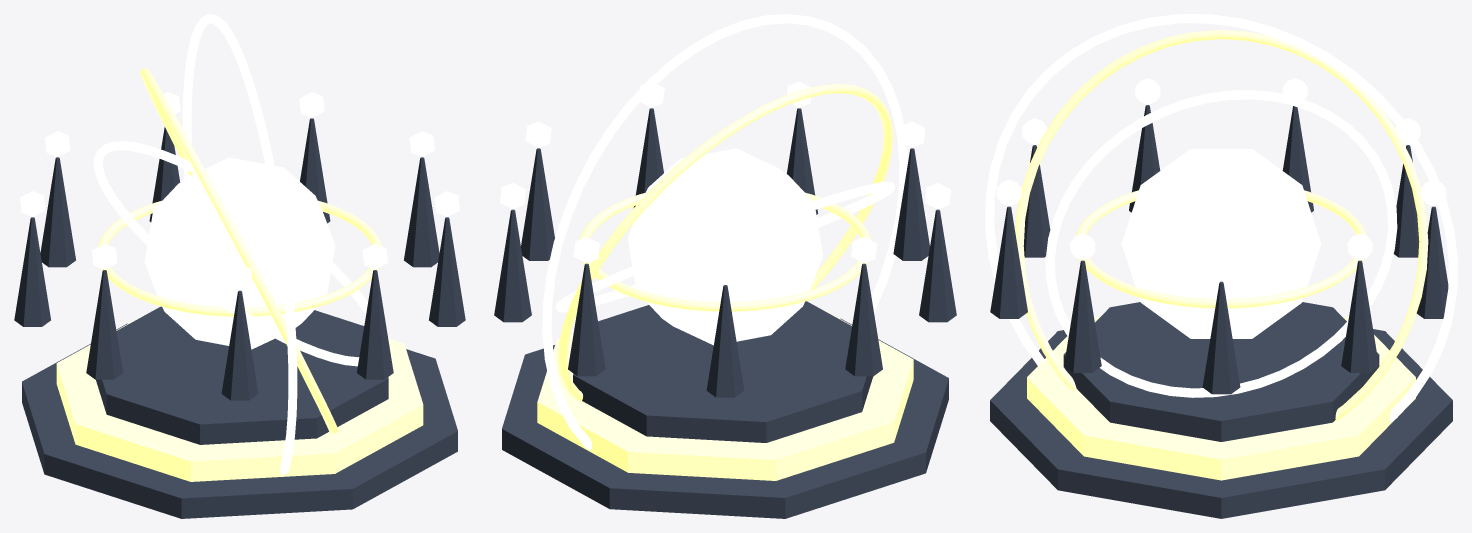
The model's file is gpu-blender-v28.glb.
3 views of the same model, side by side, from view 1: azimuth 30°, elevation 25°; view 2: azimuth 150°, elevation 25°; view 3: azimuth 270°, elevation 25° (orthographic). The views are drawn at different scales.
Visible parts, largest first — view 1: Cylinder.002, Cylinder, SovereignCore_agent-mock-twin, Cylinder.001, Torus.003, Torus.001, Torus.002, Torus, Cone.006, Cone, Cone.003, Cone.005 (+13 smaller); view 2: Cylinder.002, SovereignCore_agent-mock-twin, Cylinder, Cylinder.001, Torus.003, Torus.002, Torus.001, Torus, Cone.002, Cone.004, Cone.001, Cone.005 (+12 smaller); view 3: SovereignCore_agent-mock-twin, Cylinder.002, Cylinder, Cylinder.001, Torus.003, Torus.002, Torus.001, Torus, Cone, Cone.007, Cone.001, Cone.008 (+9 smaller).
Boxes of the visible parts, x1=… form: Cylinder.002: x1=96, y1=306, x2=388, y2=444; Cylinder: x1=22, y1=323, x2=457, y2=518; SovereignCore_agent-mock-twin: x1=144, y1=157, x2=335, y2=349; Cylinder.001: x1=56, y1=314, x2=423, y2=481; Torus.003: x1=182, y1=14, x2=297, y2=474; Torus.001: x1=93, y1=141, x2=367, y2=366; Torus.002: x1=140, y1=68, x2=338, y2=433; Torus: x1=98, y1=200, x2=381, y2=316; Cone.006: x1=221, y1=290, x2=258, y2=400; Cone: x1=404, y1=157, x2=439, y2=267; Cone.003: x1=40, y1=157, x2=75, y2=267; Cone.005: x1=86, y1=270, x2=122, y2=379; Cylinder.002: x1=573, y1=301, x2=873, y2=442; SovereignCore_agent-mock-twin: x1=627, y1=148, x2=823, y2=345; Cylinder: x1=502, y1=318, x2=948, y2=518; Cylinder.001: x1=537, y1=309, x2=913, y2=480; Torus.003: x1=542, y1=14, x2=908, y2=450; Torus.002: x1=558, y1=84, x2=892, y2=401; Torus.001: x1=556, y1=181, x2=894, y2=312; Torus: x1=580, y1=192, x2=870, y2=311; Cone.002: x1=568, y1=263, x2=605, y2=376; Cone.004: x1=845, y1=263, x2=882, y2=376; Cone.001: x1=494, y1=209, x2=531, y2=322; Cone.005: x1=919, y1=209, x2=956, y2=322; SovereignCore_agent-mock-twin: x1=1121, y1=149, x2=1321, y2=338; Cylinder.002: x1=1063, y1=302, x2=1379, y2=441; Cylinder: x1=990, y1=329, x2=1452, y2=518; Cylinder.001: x1=1027, y1=316, x2=1415, y2=480; Torus.003: x1=985, y1=14, x2=1457, y2=422; Torus.002: x1=1015, y1=30, x2=1428, y2=421; Torus.001: x1=1045, y1=90, x2=1397, y2=397; Torus: x1=1076, y1=190, x2=1366, y2=308; Cone: x1=1202, y1=281, x2=1240, y2=394; Cone.007: x1=990, y1=206, x2=1027, y2=318; Cone.001: x1=1341, y1=260, x2=1378, y2=372; Cone.008: x1=1064, y1=260, x2=1101, y2=372.
Bounding box in the file's own units: 4.41 × 4.7 × 4.49.
